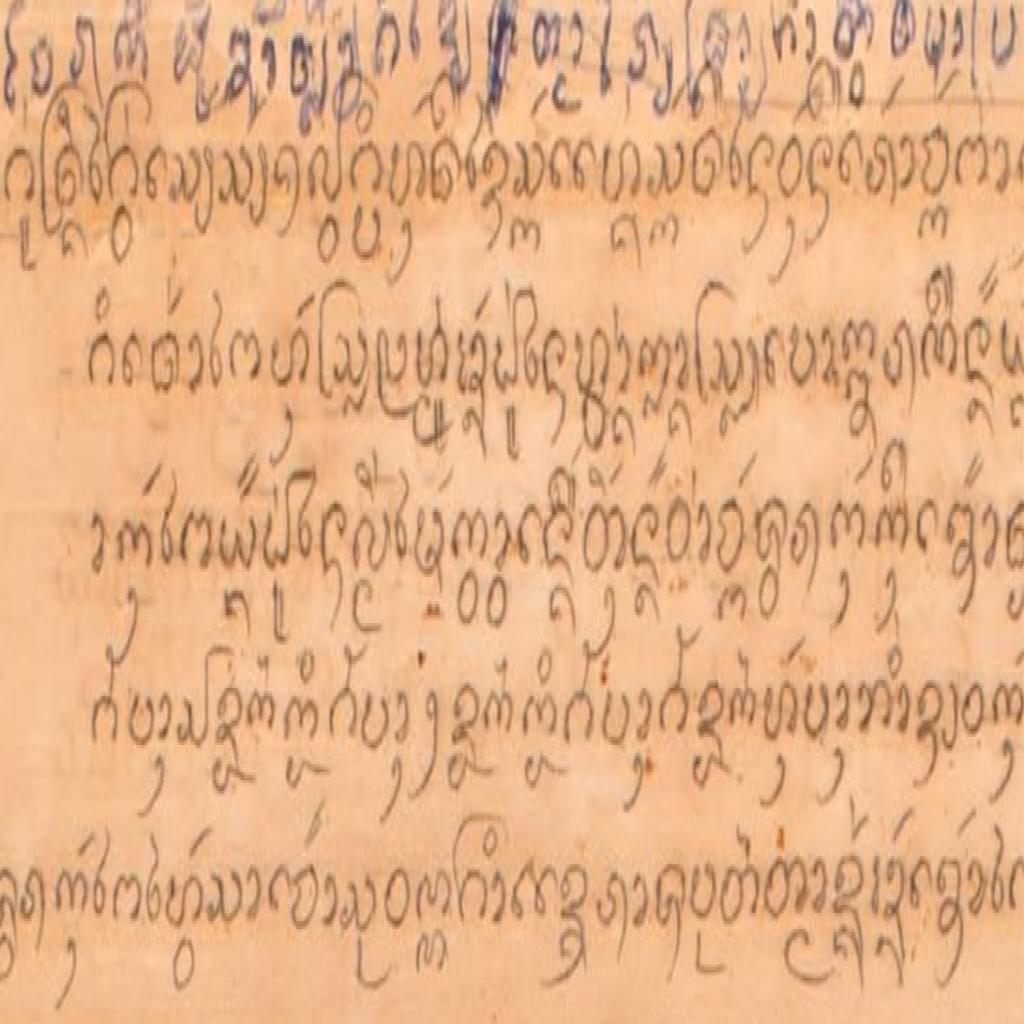LN038: (205, 865, 246, 933)
LN041: (456, 323, 491, 409)
